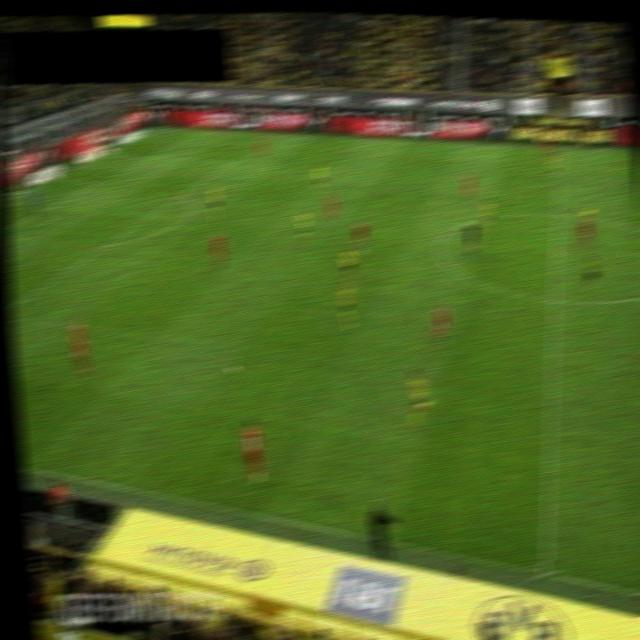bigarea_top_inner: (223, 155, 242, 168)
bigarea_top_outter: (98, 148, 117, 161)
bottom_arc_area_intersection: (99, 236, 118, 249)
corner: (152, 124, 170, 137)
halfcircle_bottom: (544, 292, 565, 308)
halfcircle_top: (548, 209, 567, 221)
midline_bottom_intersection: (531, 561, 562, 587)
midline_top_intersection: (551, 142, 569, 155)
smallarea_top_inner: (88, 176, 105, 189)
smallarea_top_outter: (44, 172, 62, 184)
top_arc_area_intersection: (175, 186, 193, 199)
